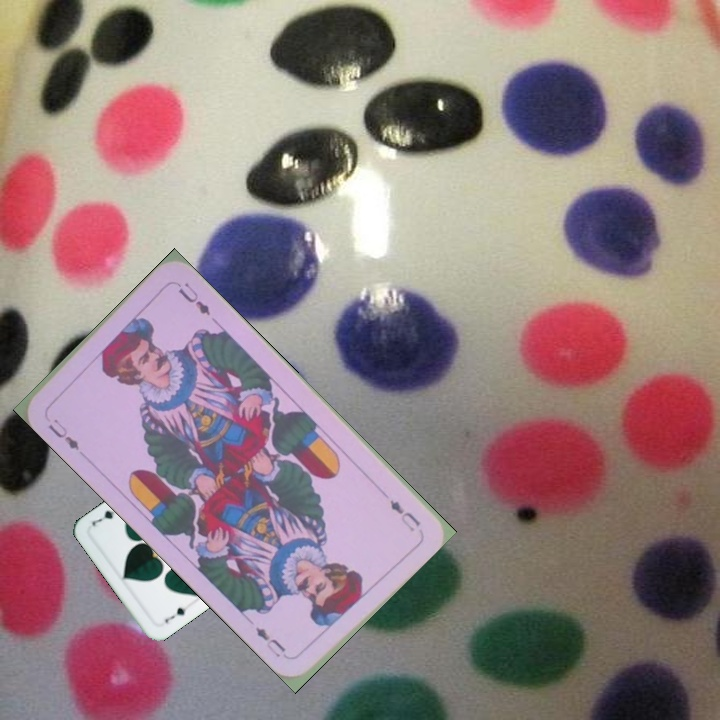EU: (385, 495, 424, 535), (44, 414, 82, 453)
G7: (161, 602, 192, 626)
